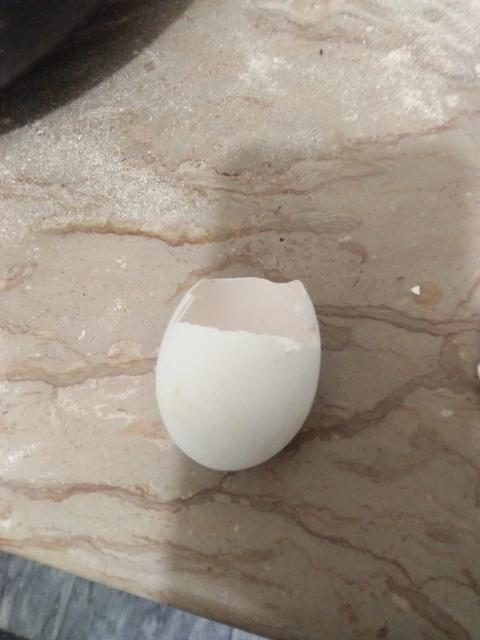Roto: (154, 275, 322, 472)
